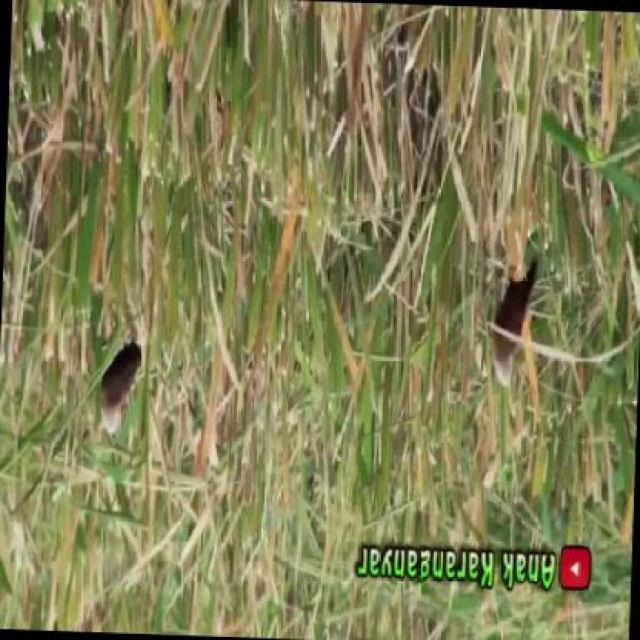Bird: (472, 255, 550, 394), (98, 330, 162, 451)
